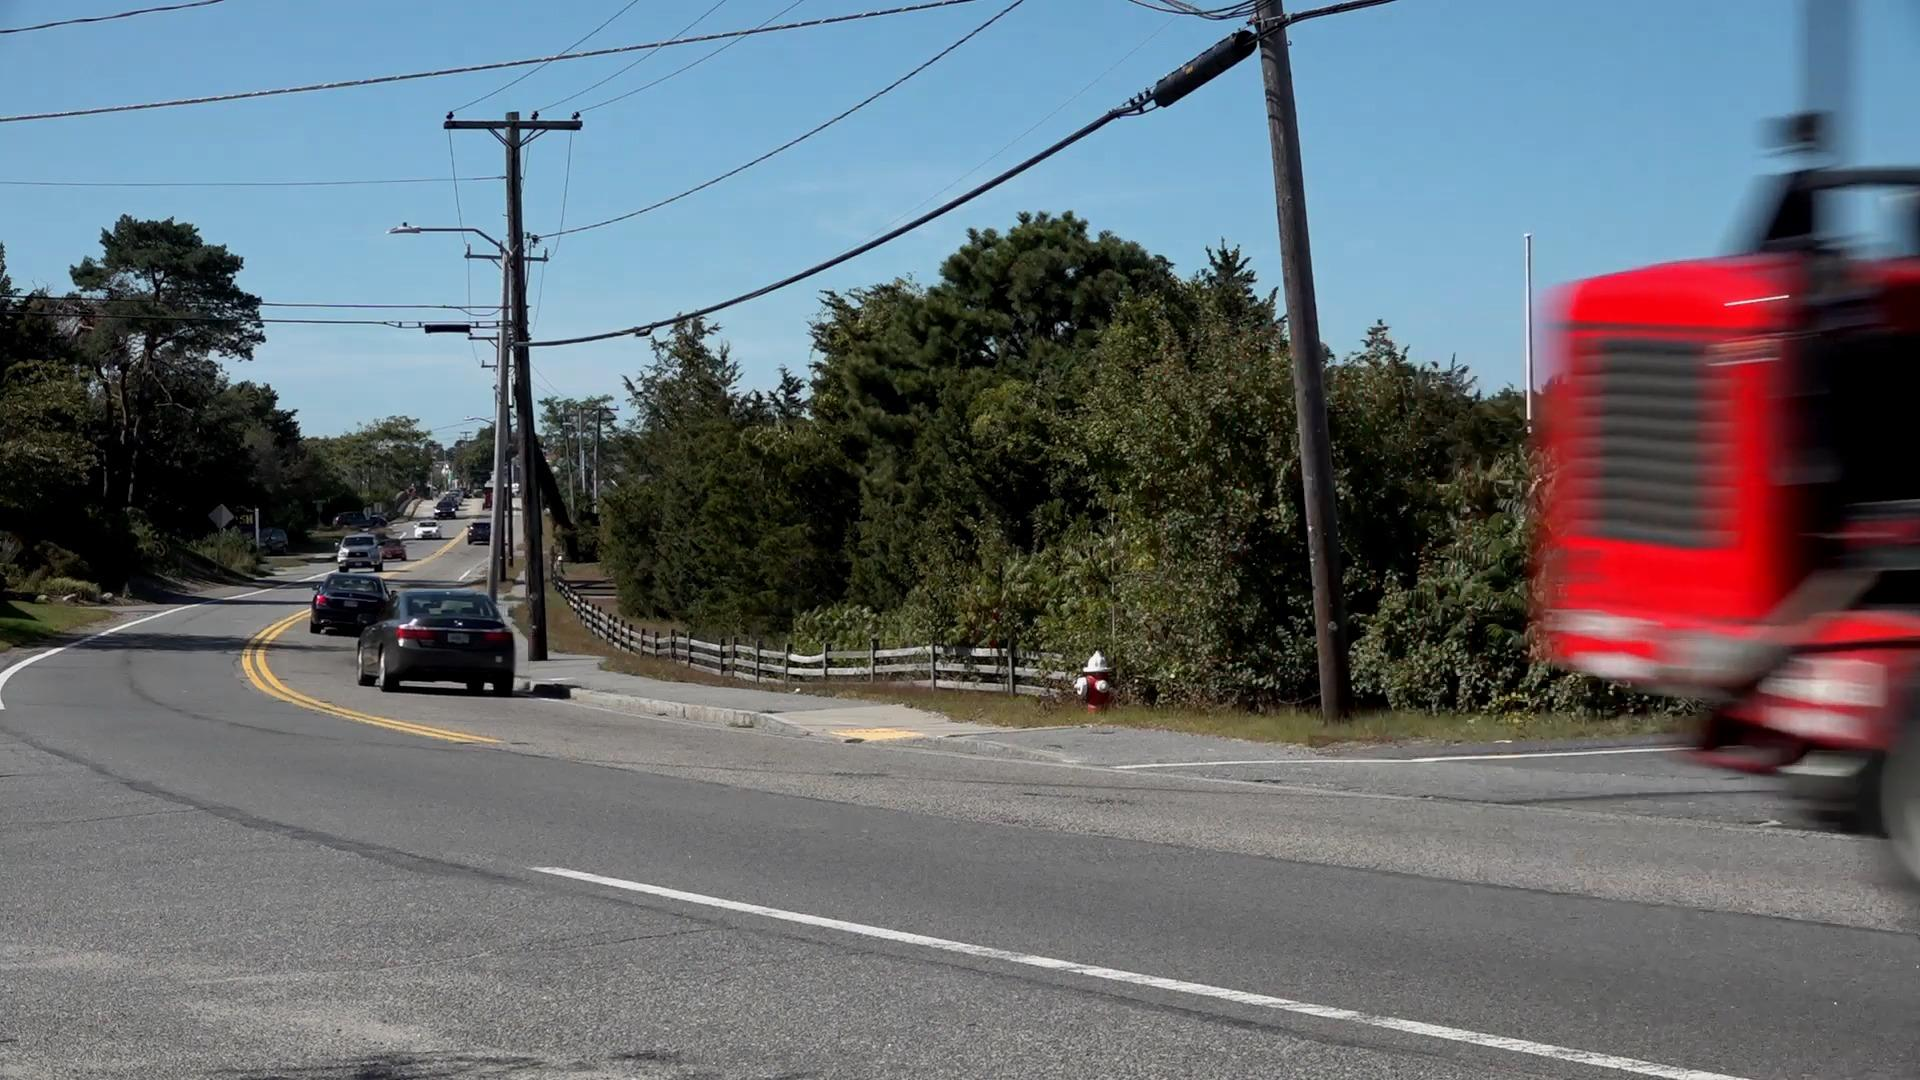sedans: (349, 585, 518, 694)
